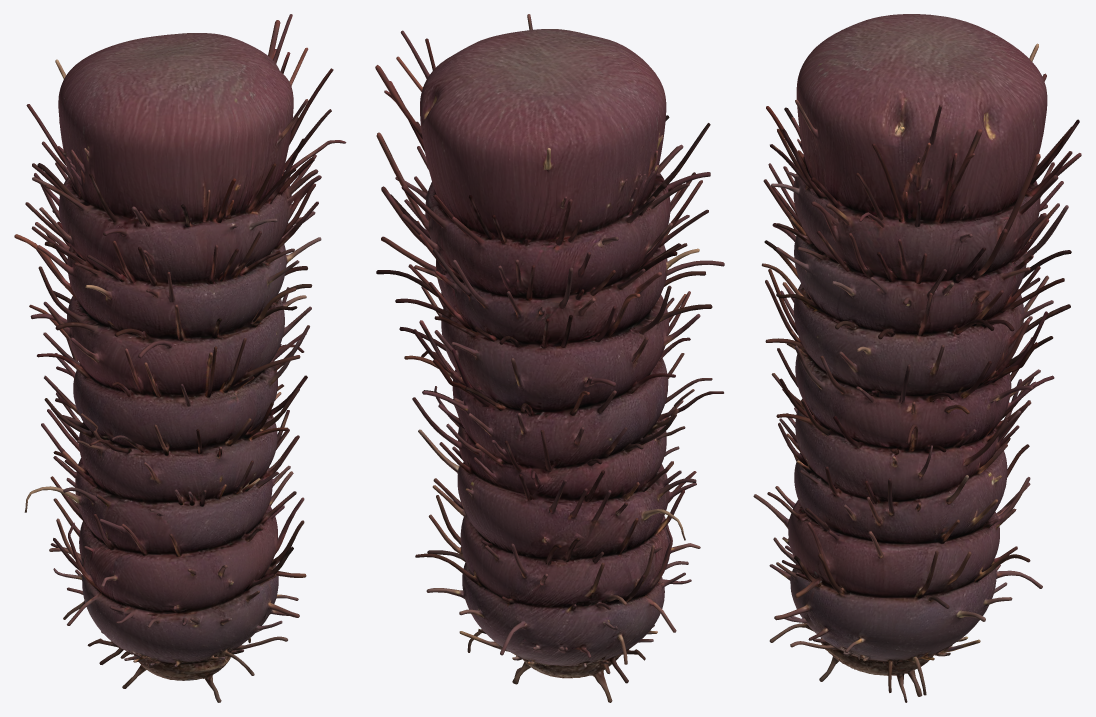
Rendered from gansong.glb.
3 views of the same model, side by side, from view 1: azimuth 30°, elevation 25°; view 2: azimuth 150°, elevation 25°; view 3: azimuth 270°, elevation 25° (orthographic). The views are drawn at different scales.
Visible parts, largest first — view 1: node_0; view 2: node_0; view 3: node_0.
Boxes of the visible parts, x1,y1,x2,y2 form: node_0: (14,14,346,702); node_0: (375,14,724,702); node_0: (753,14,1081,702).
Bounding box in the file's own units: 0.5387 × 1.11 × 0.5111.
1 material, 1 textured.
